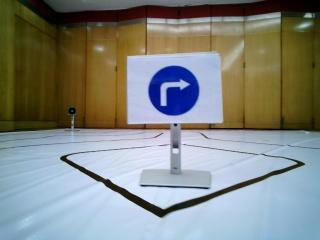right: (126, 60, 209, 122)
